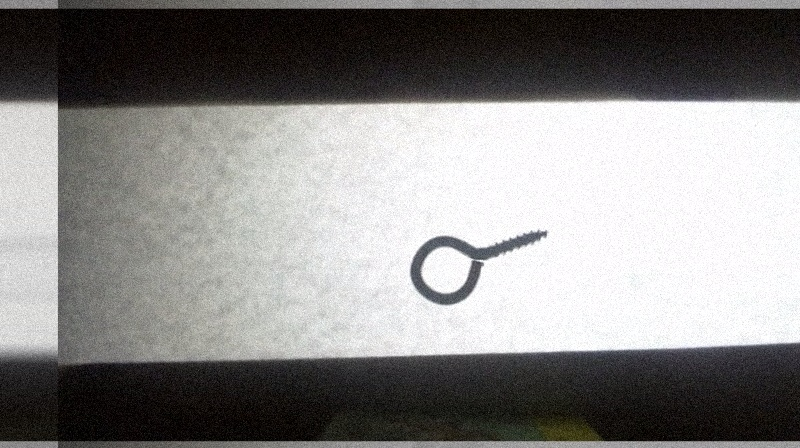O001: (405, 224, 552, 307)
